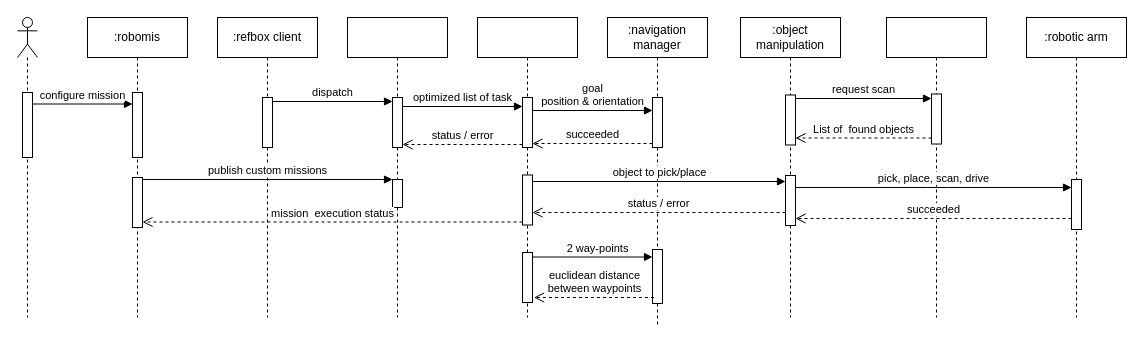
This 1144x345 diagram has some shape labels left out. Each missing label, with the centre of its shape:
":task executor" belongs at pixel 527 167.
":task manager" belongs at pixel 397 167.
":vision" belongs at pixel 936 167.
